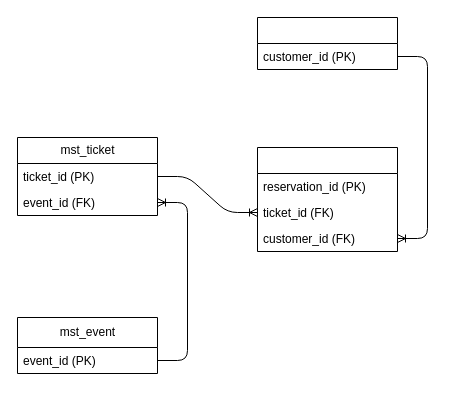
The diagram is 453 pixels wide and 394 high, and some of its shapes have lost their labels. The shapes that lost their labels are listed below. From the top down, each one's box as (x1, y1, x2, y2) in pixels, then its label:
(256, 16, 398, 70): mst_customer
(256, 146, 398, 252): mst_tbl_reservation
